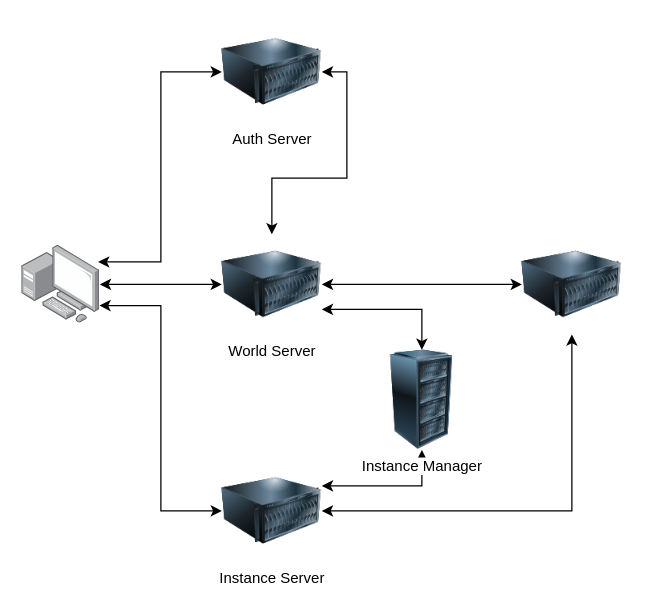
This 650x609 diagram has some shape labels left out. Here are the shapes that lost their labels. From the top down, the centre of each, then its label:
At point (60, 284): "Client".
At point (571, 284): "Character Server".
